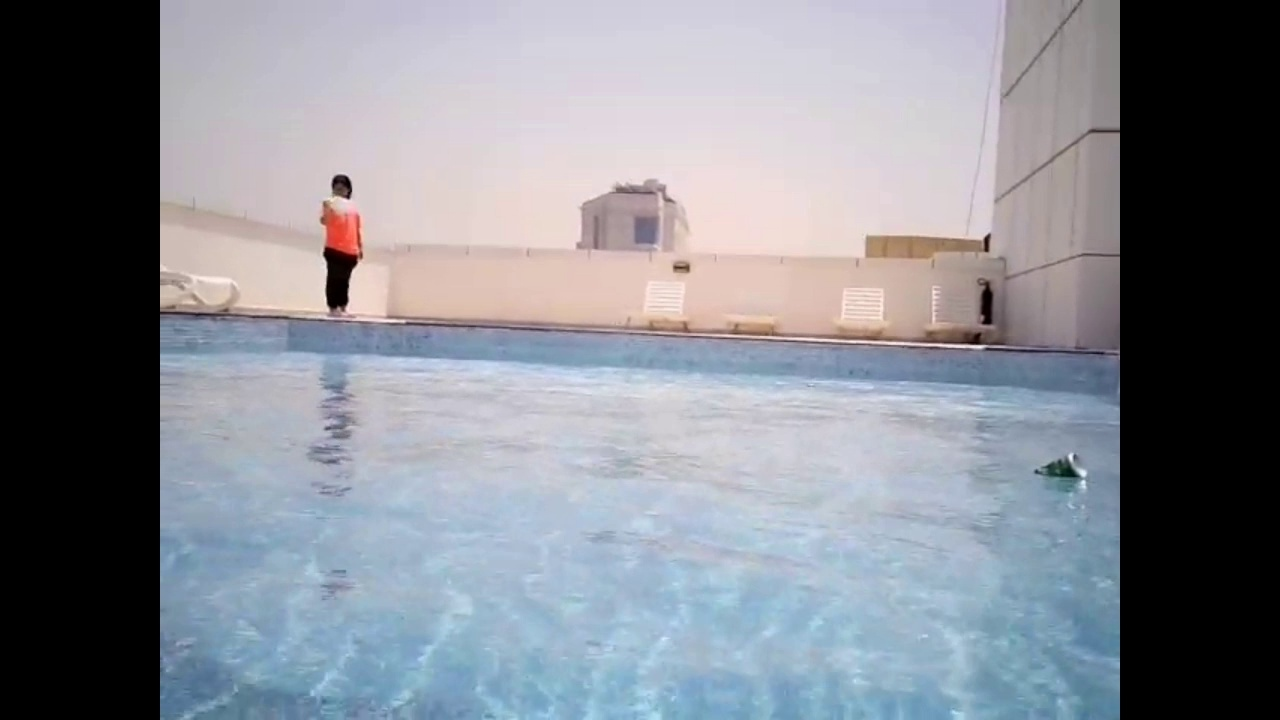debris: (1018, 442, 1097, 499), (805, 380, 817, 391)
